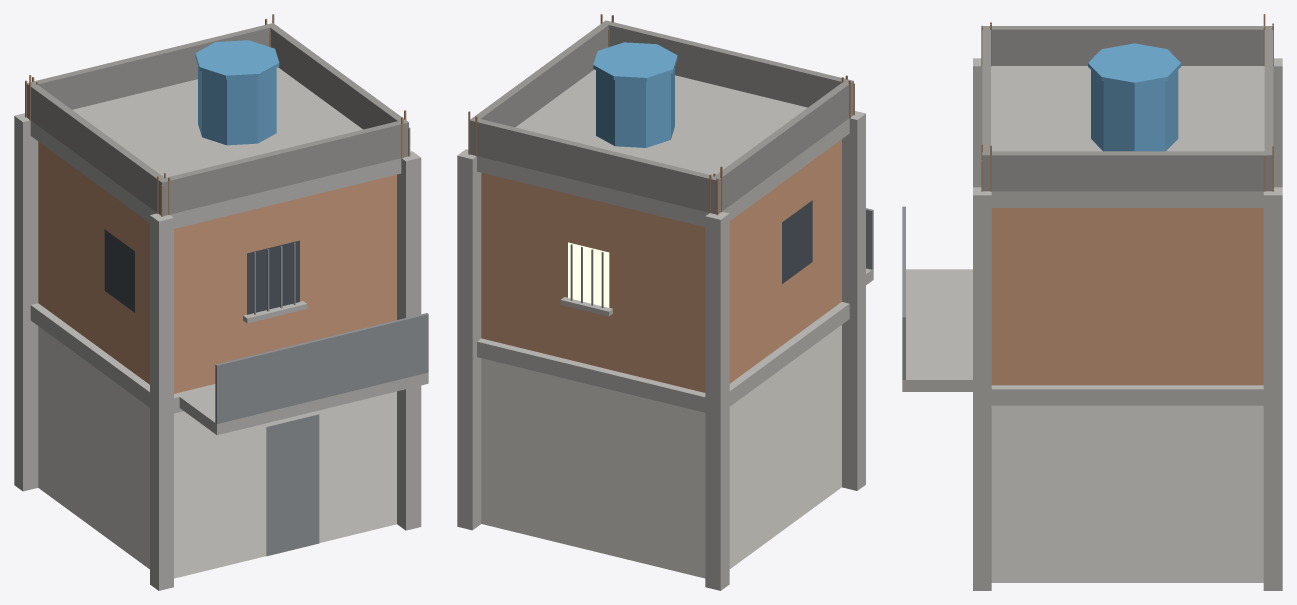
The model's file is fv_house_a.glb.
3 renders of one model, left to right at view 1: azimuth 30°, elevation 25°; view 2: azimuth 150°, elevation 25°; view 3: azimuth 270°, elevation 25°, orthographic. The views are drawn at different scales.
Visible parts, largest first — view 1: fv_house_a; view 2: fv_house_a; view 3: fv_house_a.
Part boxes in pixels (x1,y1,x2,y2): fv_house_a: (14, 14, 428, 590); fv_house_a: (457, 14, 873, 590); fv_house_a: (902, 14, 1282, 590).
Bounding box in the file's own units: 4.46 × 7.15 × 5.23.
